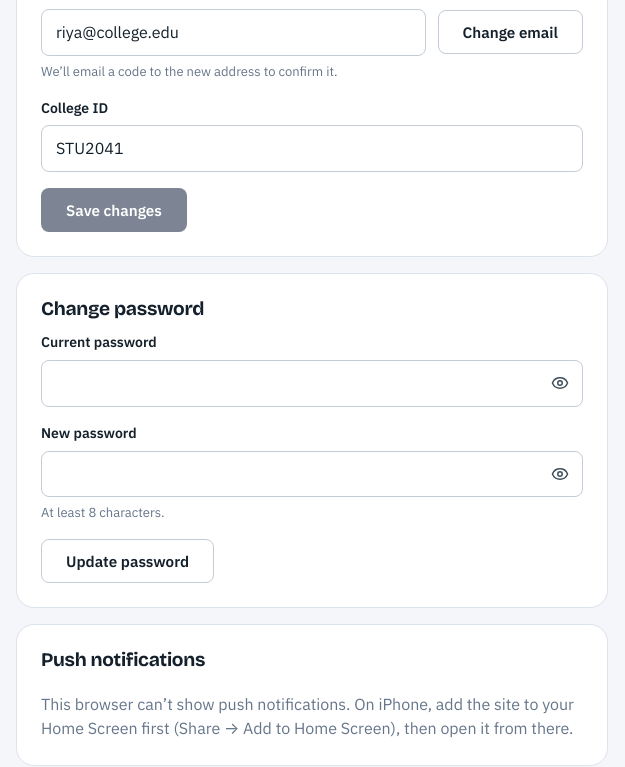
Test: Profile page › refuses a new password shorter than 8 characters
(page scrolled)
Type "old-password" into the password field labelled "Current password".
click(312, 383); type("old-password")  # box [41,360,583,407]
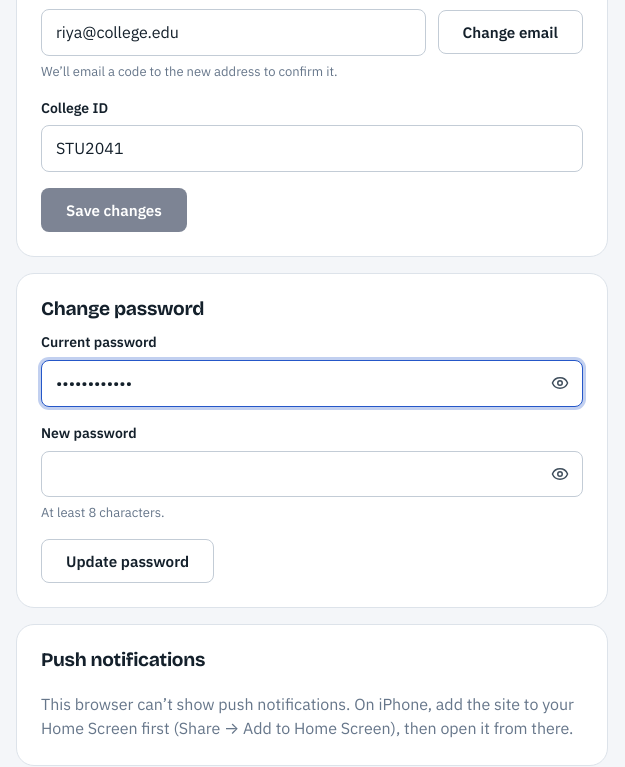
Type "short" into the password field labelled "New password".
click(312, 474); type("short")  # box [41,450,583,497]
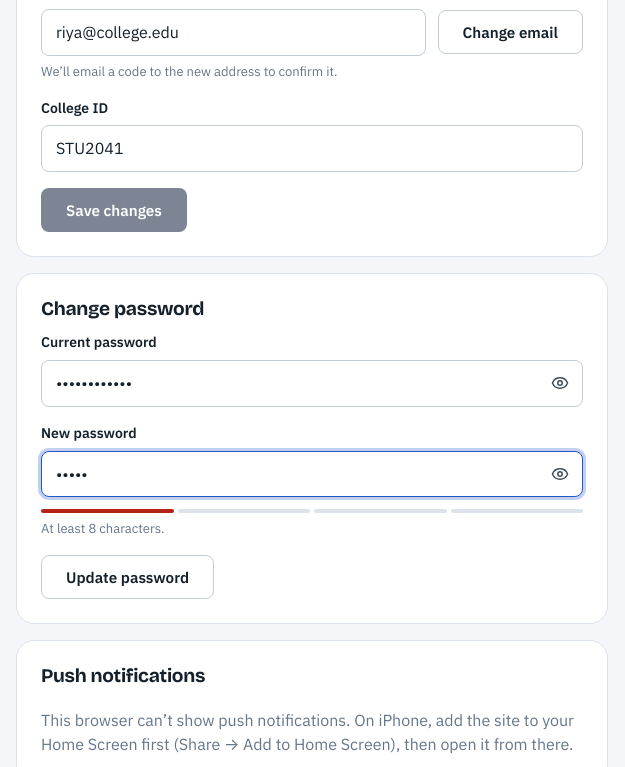
Click the button "Update password".
click(128, 577)  # box [41,555,214,599]
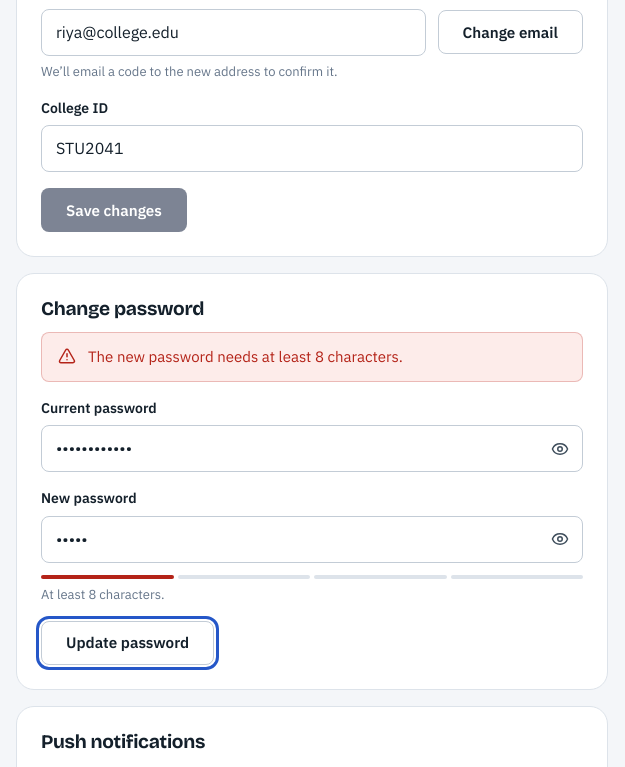
expect the message shows "at least 8": met, box [88,347,403,366]
